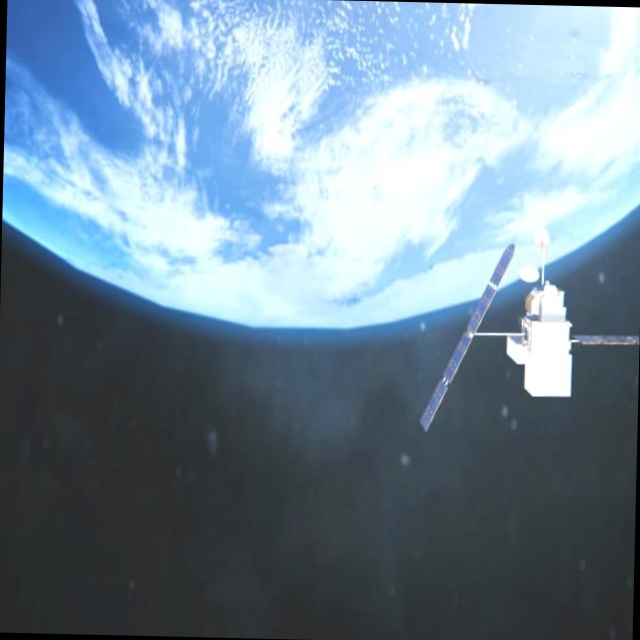medium_debris: (409, 226, 640, 466)
